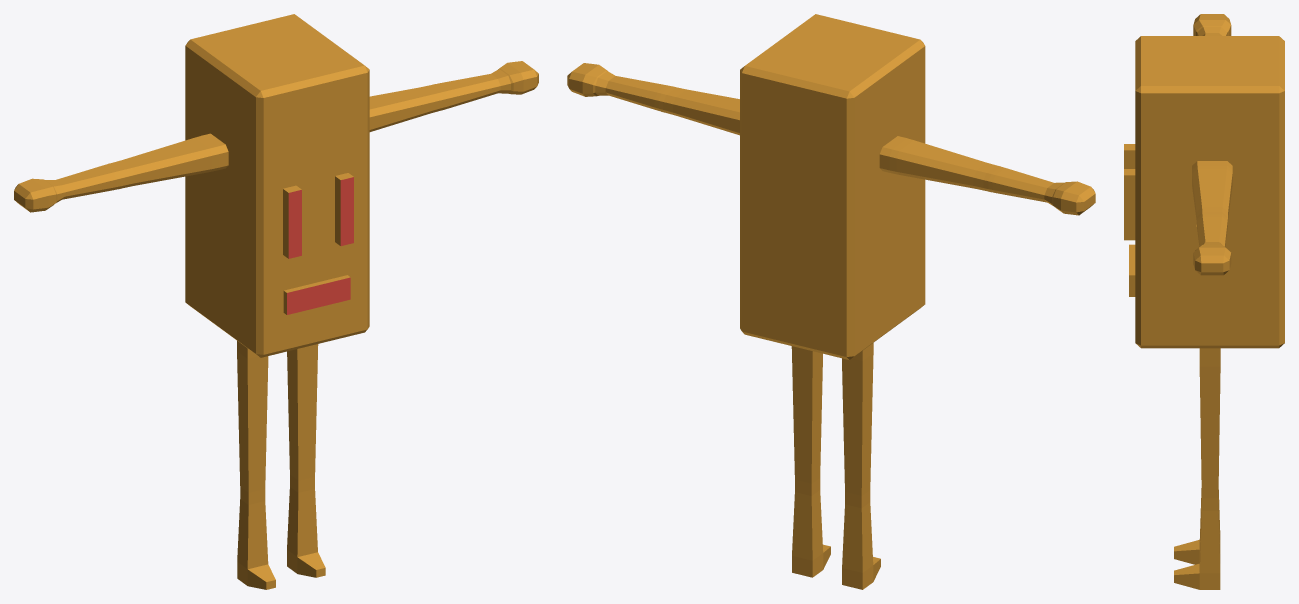
The model's file is Ragdoll.fbx.
The picture shows the model from 3 angles, left to right: view 1: azimuth 30°, elevation 25°; view 2: azimuth 150°, elevation 25°; view 3: azimuth 270°, elevation 25°; orthographic projection. The views are drawn at different scales.
Visible parts, largest first — view 1: Body, RightUpperLeg, LeftUpperLeg, RightUpperArm, RightLowerArm, RightLowerLeg, LeftLowerLeg.001, LeftLowerArm, LeftUpperArm; view 2: Body, RightUpperLeg, LeftUpperLeg, RightUpperArm, RightLowerArm, LeftLowerLeg.001, RightLowerLeg, LeftLowerArm, LeftUpperArm; view 3: Body, LeftUpperLeg, LeftLowerLeg.001, LeftLowerArm, LeftUpperArm, RightLowerArm, RightLowerLeg.
Part boxes in pixels (x1,y1,x2,y2): Body: (185, 14, 369, 357); RightUpperLeg: (237, 341, 268, 498); LeftUpperLeg: (287, 344, 318, 486); RightUpperArm: (108, 135, 221, 187); RightLowerArm: (14, 163, 125, 212); RightLowerLeg: (237, 493, 275, 589); LeftLowerLeg.001: (287, 481, 325, 577); LeftLowerArm: (431, 61, 538, 110); LeftUpperArm: (369, 85, 447, 131); Body: (740, 14, 925, 359); RightUpperLeg: (842, 343, 873, 501); LeftUpperLeg: (791, 346, 822, 489); RightUpperArm: (886, 137, 1000, 191); RightLowerArm: (983, 165, 1095, 215); LeftLowerLeg.001: (792, 484, 830, 577); RightLowerLeg: (842, 496, 880, 589); LeftLowerArm: (567, 63, 675, 112); LeftUpperArm: (659, 87, 739, 135); Body: (1124, 36, 1284, 353); LeftUpperLeg: (1199, 353, 1220, 504); LeftLowerLeg.001: (1174, 503, 1220, 589); LeftLowerArm: (1193, 212, 1231, 275); LeftUpperArm: (1192, 164, 1232, 226); RightLowerArm: (1193, 14, 1231, 35); RightLowerLeg: (1174, 488, 1220, 564).
Bounding box in the file's own units: 7.8 × 7.56 × 2.15.
